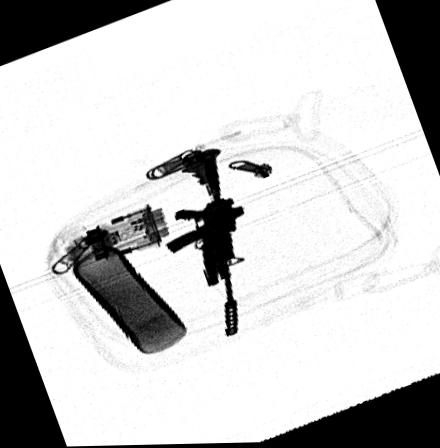Gun: (164, 155, 247, 339)
